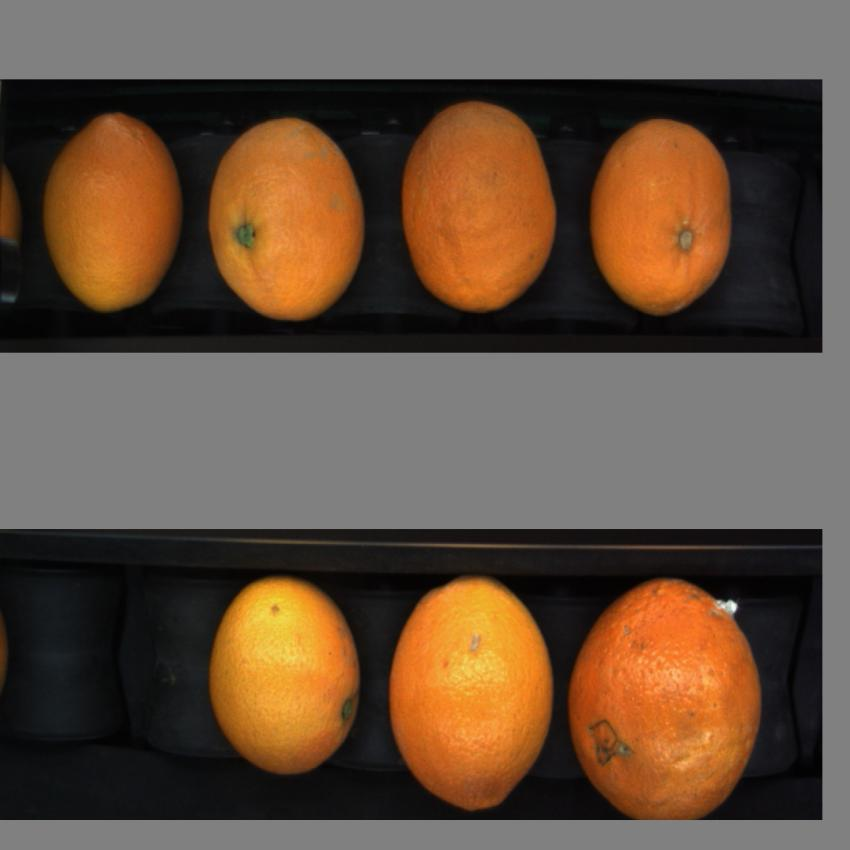Buen estado: (382, 573, 559, 818), (200, 568, 367, 787), (394, 97, 561, 314), (584, 106, 745, 324), (206, 116, 369, 327), (37, 107, 190, 319)
Mal estado: (566, 577, 772, 821)
